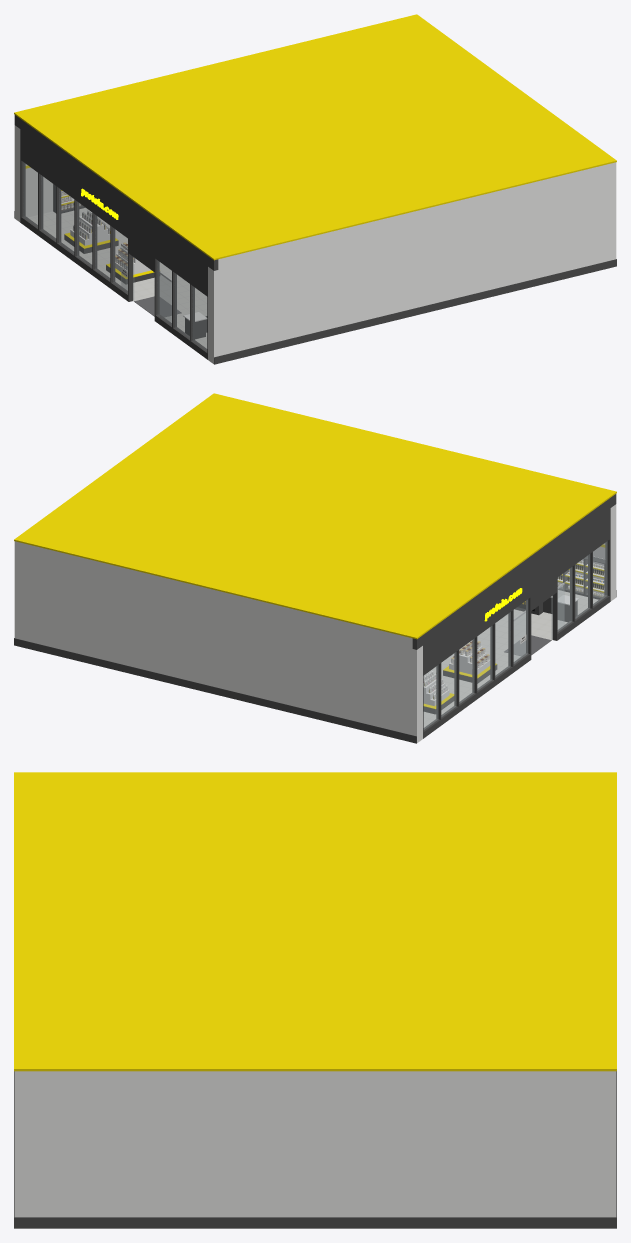
The model's file is protein_store.glb.
3 views of the same model, one above another, from view 1: azimuth 30°, elevation 25°; view 2: azimuth 150°, elevation 25°; view 3: azimuth 270°, elevation 25° (orthographic). The views are drawn at different scales.
Parts seen in each view (by area): view 1: Exterior_Trim, Solid_Walls, Solid_Storefront, Storefront_Glass, Floor_Tiles, Door_Leaves, Solid_Promo_1, Solid_Promo_0, Products_Promo; view 2: Exterior_Trim, Solid_Walls, Solid_Storefront, Storefront_Glass, Floor_Tiles, Door_Leaves, Solid_Promo_0, Products_Promo, Solid_WallBay_C0, Solid_Promo_1, Solid_Counter; view 3: Exterior_Trim, Solid_Walls.
Boxes of the visible parts, x1,y1,x2,y2 form: Exterior_Trim: (14,14,616,364); Solid_Walls: (25,162,616,356); Solid_Storefront: (14,115,218,363); Storefront_Glass: (23,162,206,350); Floor_Tiles: (28,208,207,348); Door_Leaves: (121,243,171,322); Solid_Promo_1: (64,216,118,253); Solid_Promo_0: (106,247,154,284); Products_Promo: (72,211,133,269); Exterior_Trim: (14,393,616,743); Solid_Walls: (14,541,605,735); Solid_Storefront: (412,494,616,742); Storefront_Glass: (424,541,607,729); Floor_Tiles: (423,590,598,727); Door_Leaves: (513,582,564,661); Solid_Promo_0: (443,646,497,683); Products_Promo: (423,641,489,699); Solid_WallBay_C0: (584,556,605,599); Solid_Promo_1: (423,679,454,714); Solid_Counter: (515,595,578,622); Exterior_Trim: (14,772,616,1228); Solid_Walls: (14,1071,616,1217).
Bounding box in the file's own units: 23.5 × 5.88 × 20.14.
Materials: 19 (3 with a texture image).
